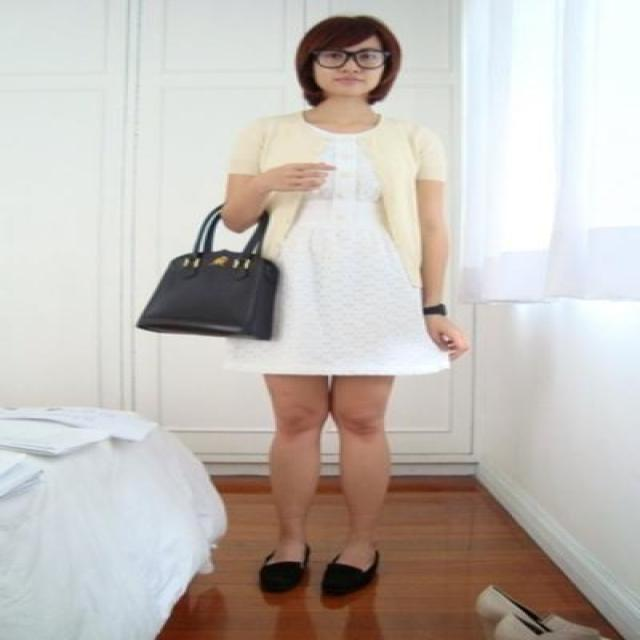bag: (136, 208, 278, 339)
dress: (230, 128, 440, 379)
jacket: (227, 111, 427, 246)
shoe: (259, 550, 378, 598)
